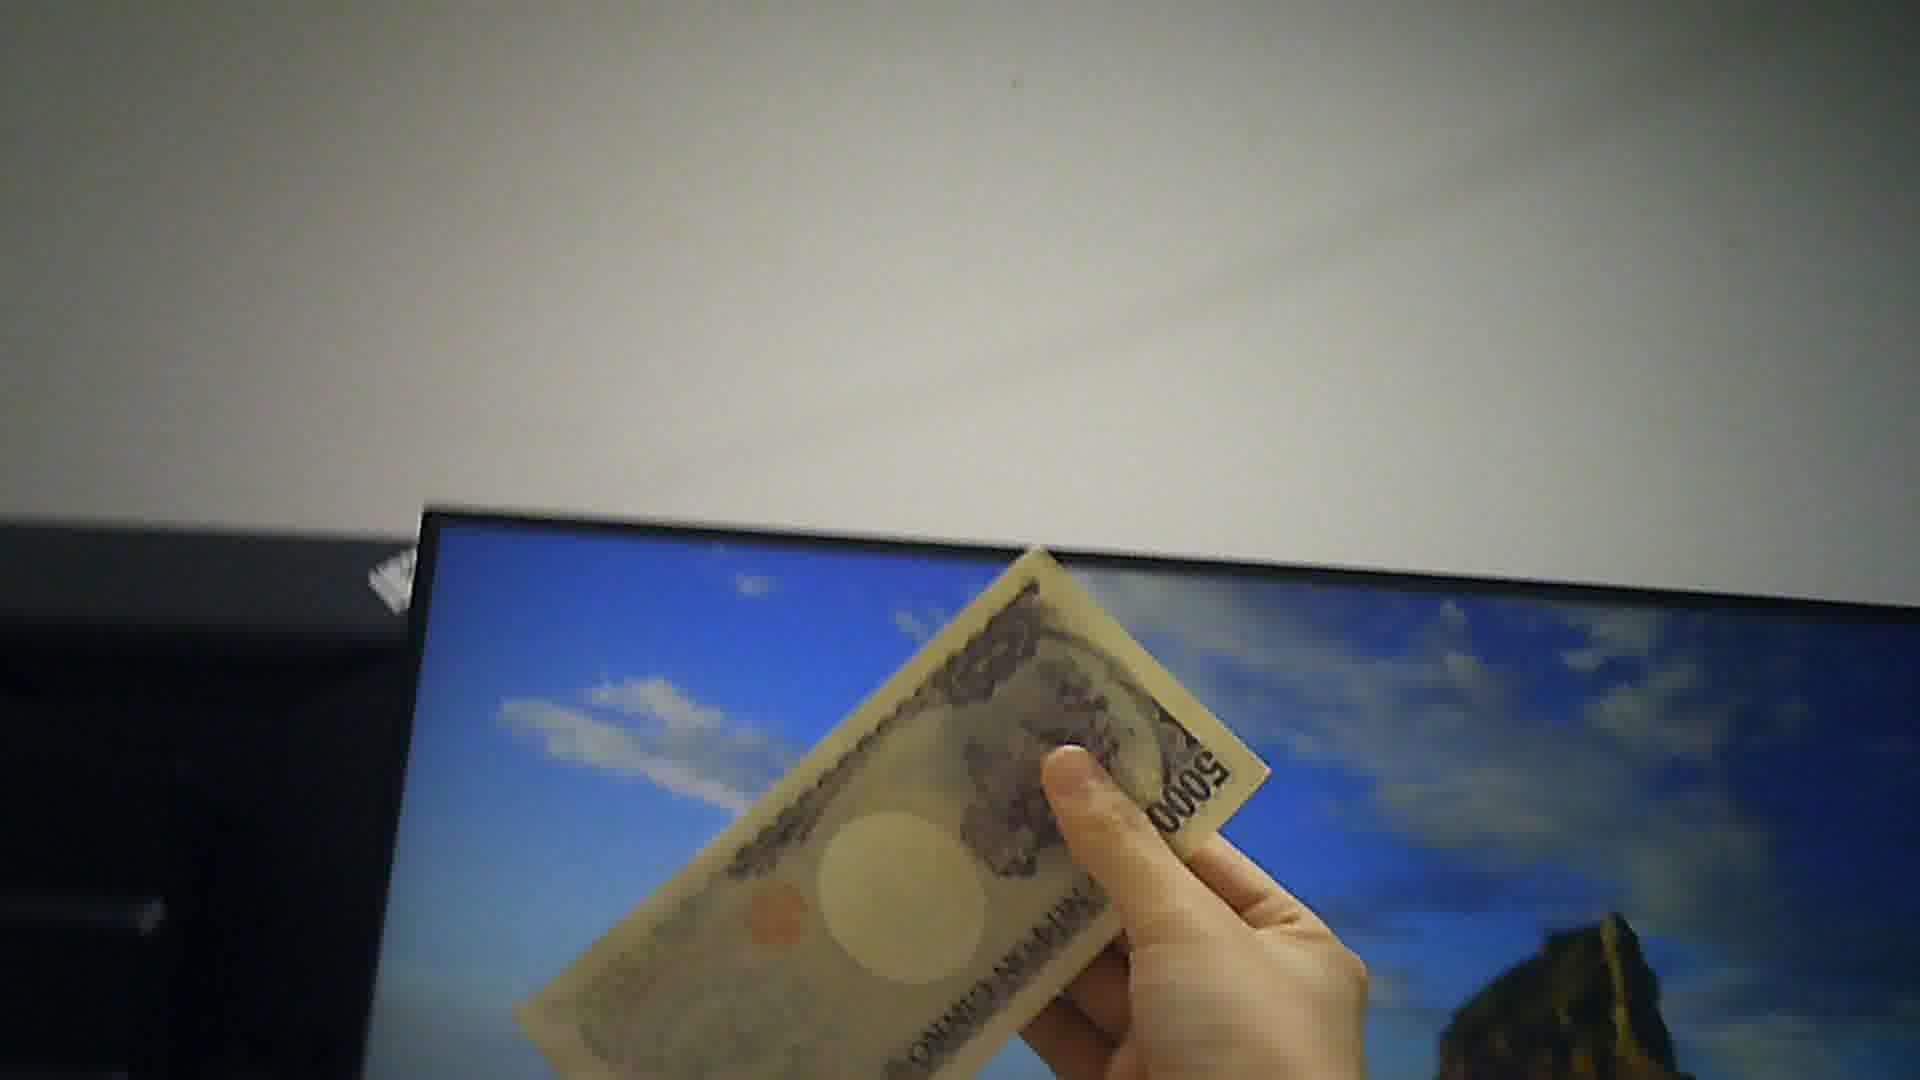5,000 Yen: (541, 531, 1249, 1079)
